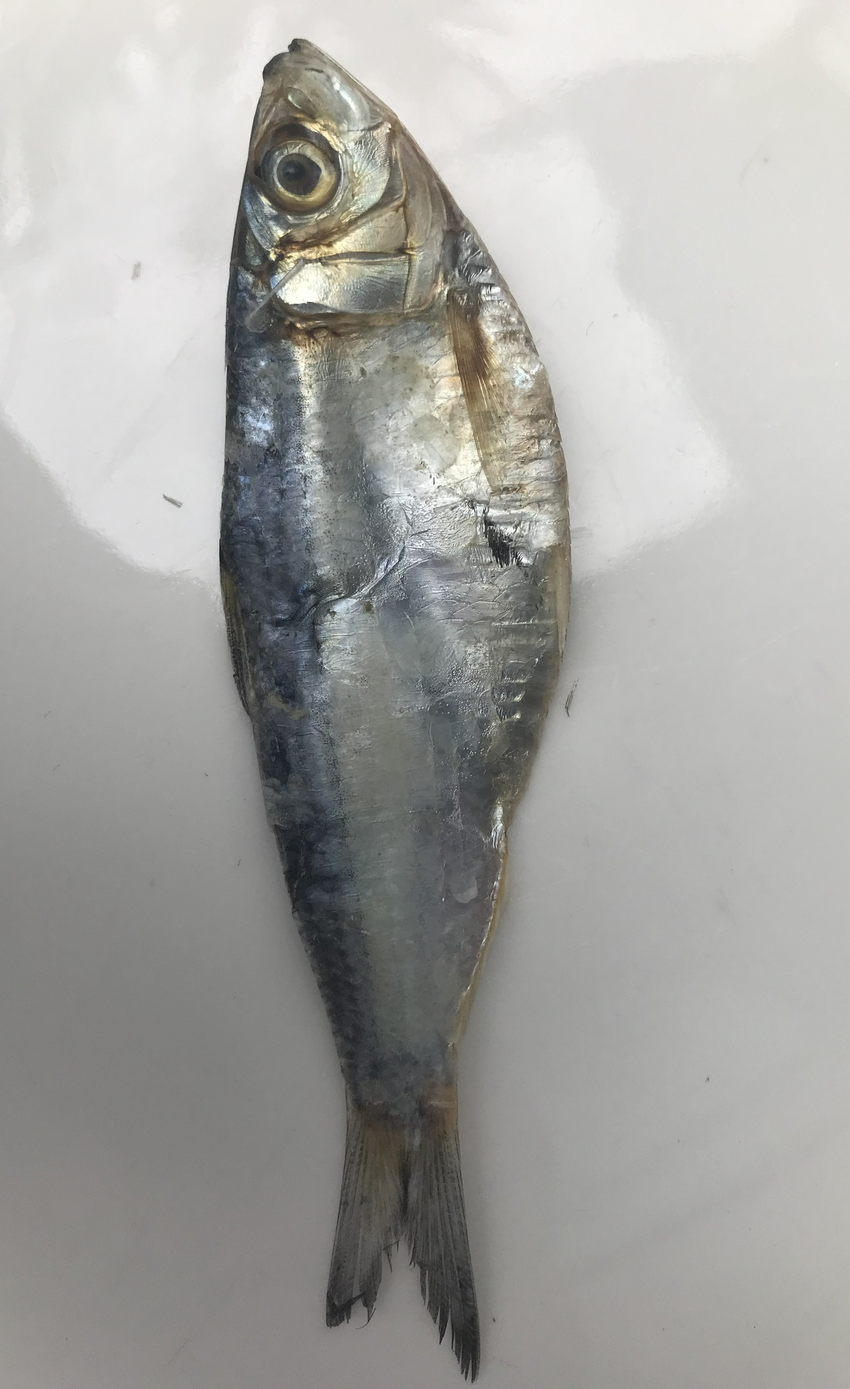tamban_dried_: (0, 38, 801, 1389)
